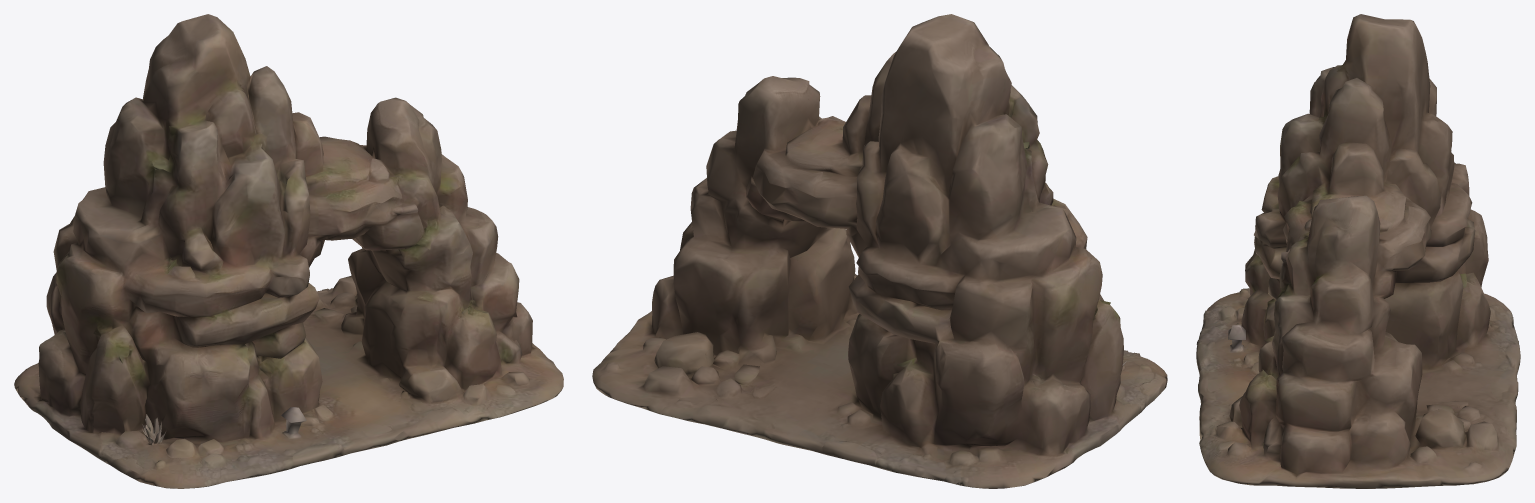
Rendered from journey_rock.glb.
3 views of the same model, side by side, from view 1: azimuth 30°, elevation 25°; view 2: azimuth 150°, elevation 25°; view 3: azimuth 270°, elevation 25° (orthographic). The views are drawn at different scales.
Visible parts, largest first — view 1: tripo_node_393c67ce-201e-47b0-9133-a1a8b4fd06e5; view 2: tripo_node_393c67ce-201e-47b0-9133-a1a8b4fd06e5; view 3: tripo_node_393c67ce-201e-47b0-9133-a1a8b4fd06e5.
Part boxes in pixels (left/top/right/bottom): tripo_node_393c67ce-201e-47b0-9133-a1a8b4fd06e5: left=14, top=14, right=563, bottom=488; tripo_node_393c67ce-201e-47b0-9133-a1a8b4fd06e5: left=592, top=14, right=1167, bottom=488; tripo_node_393c67ce-201e-47b0-9133-a1a8b4fd06e5: left=1196, top=14, right=1520, bottom=488.
Size of the model in its own units: 1 by 0.7886 by 0.6829.
1 material, 1 textured.
